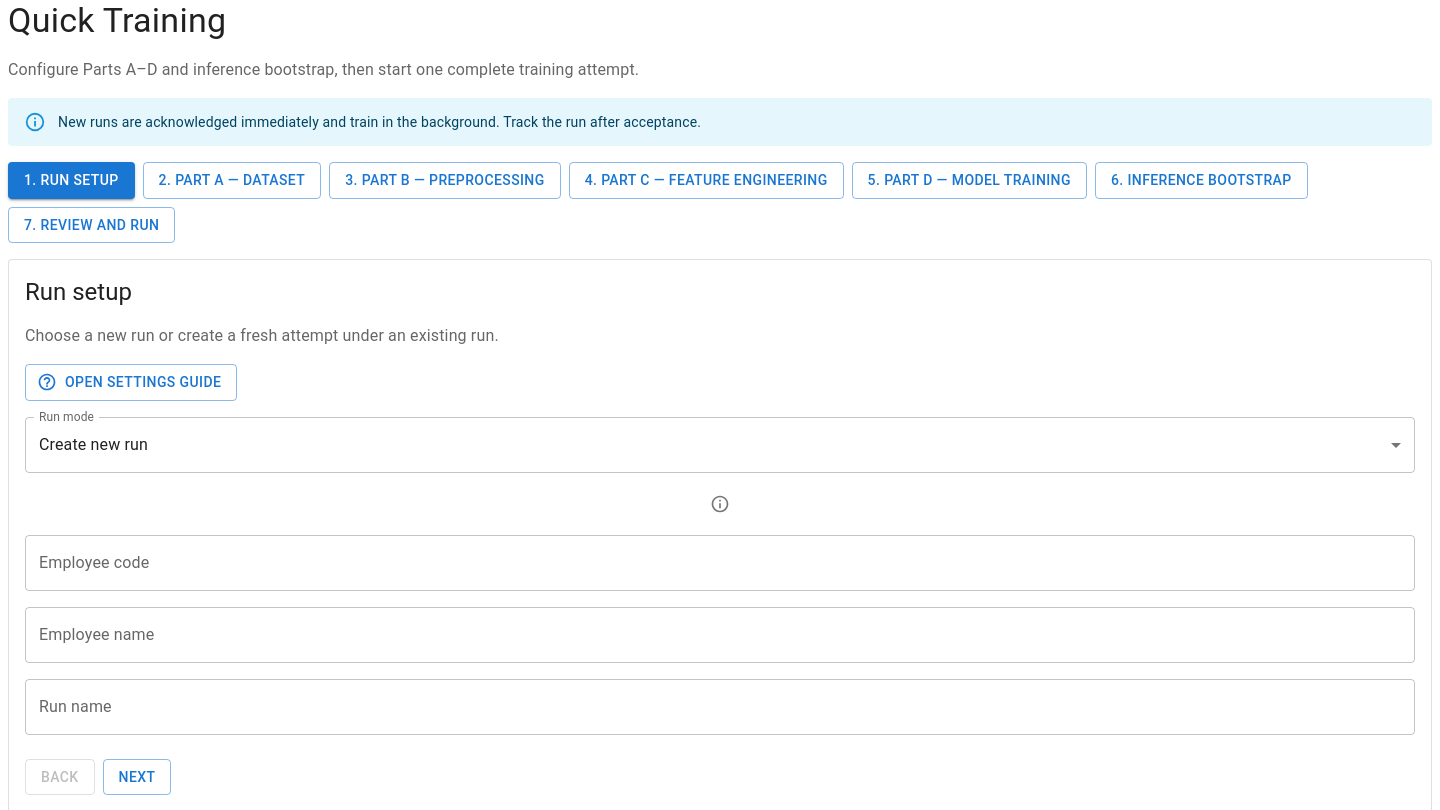
Test: Quick Training workspace › blocks invalid submission and identifies the section
Click the button "7. Review and Run" at (92, 225), box [8, 206, 175, 243]
(page scrolled)
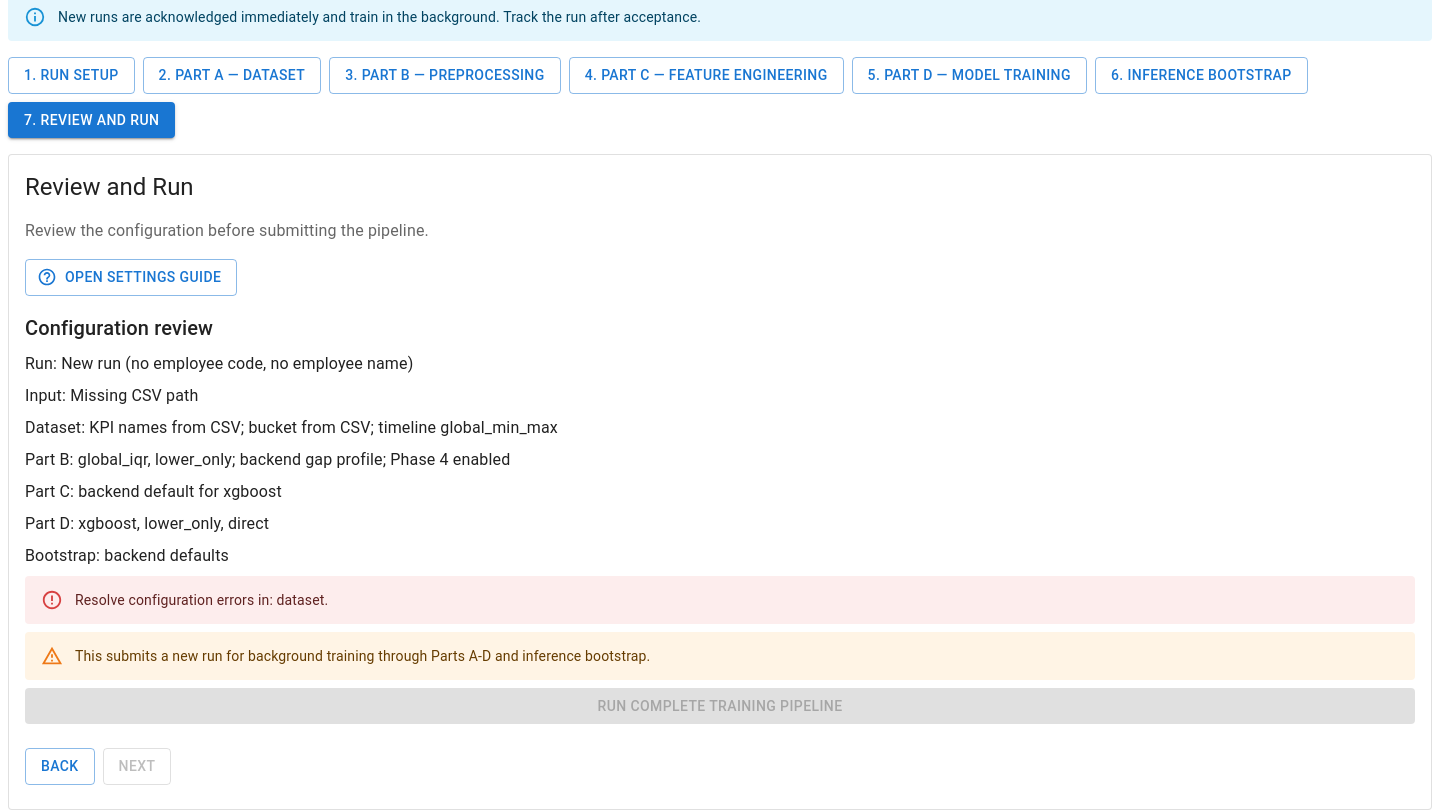
Check: the text "Resolve configuration errors in: dataset." is shown, box [75, 592, 328, 608]
Check: the button "Run complete training pipeline" is disabled, box [25, 688, 1415, 724]
